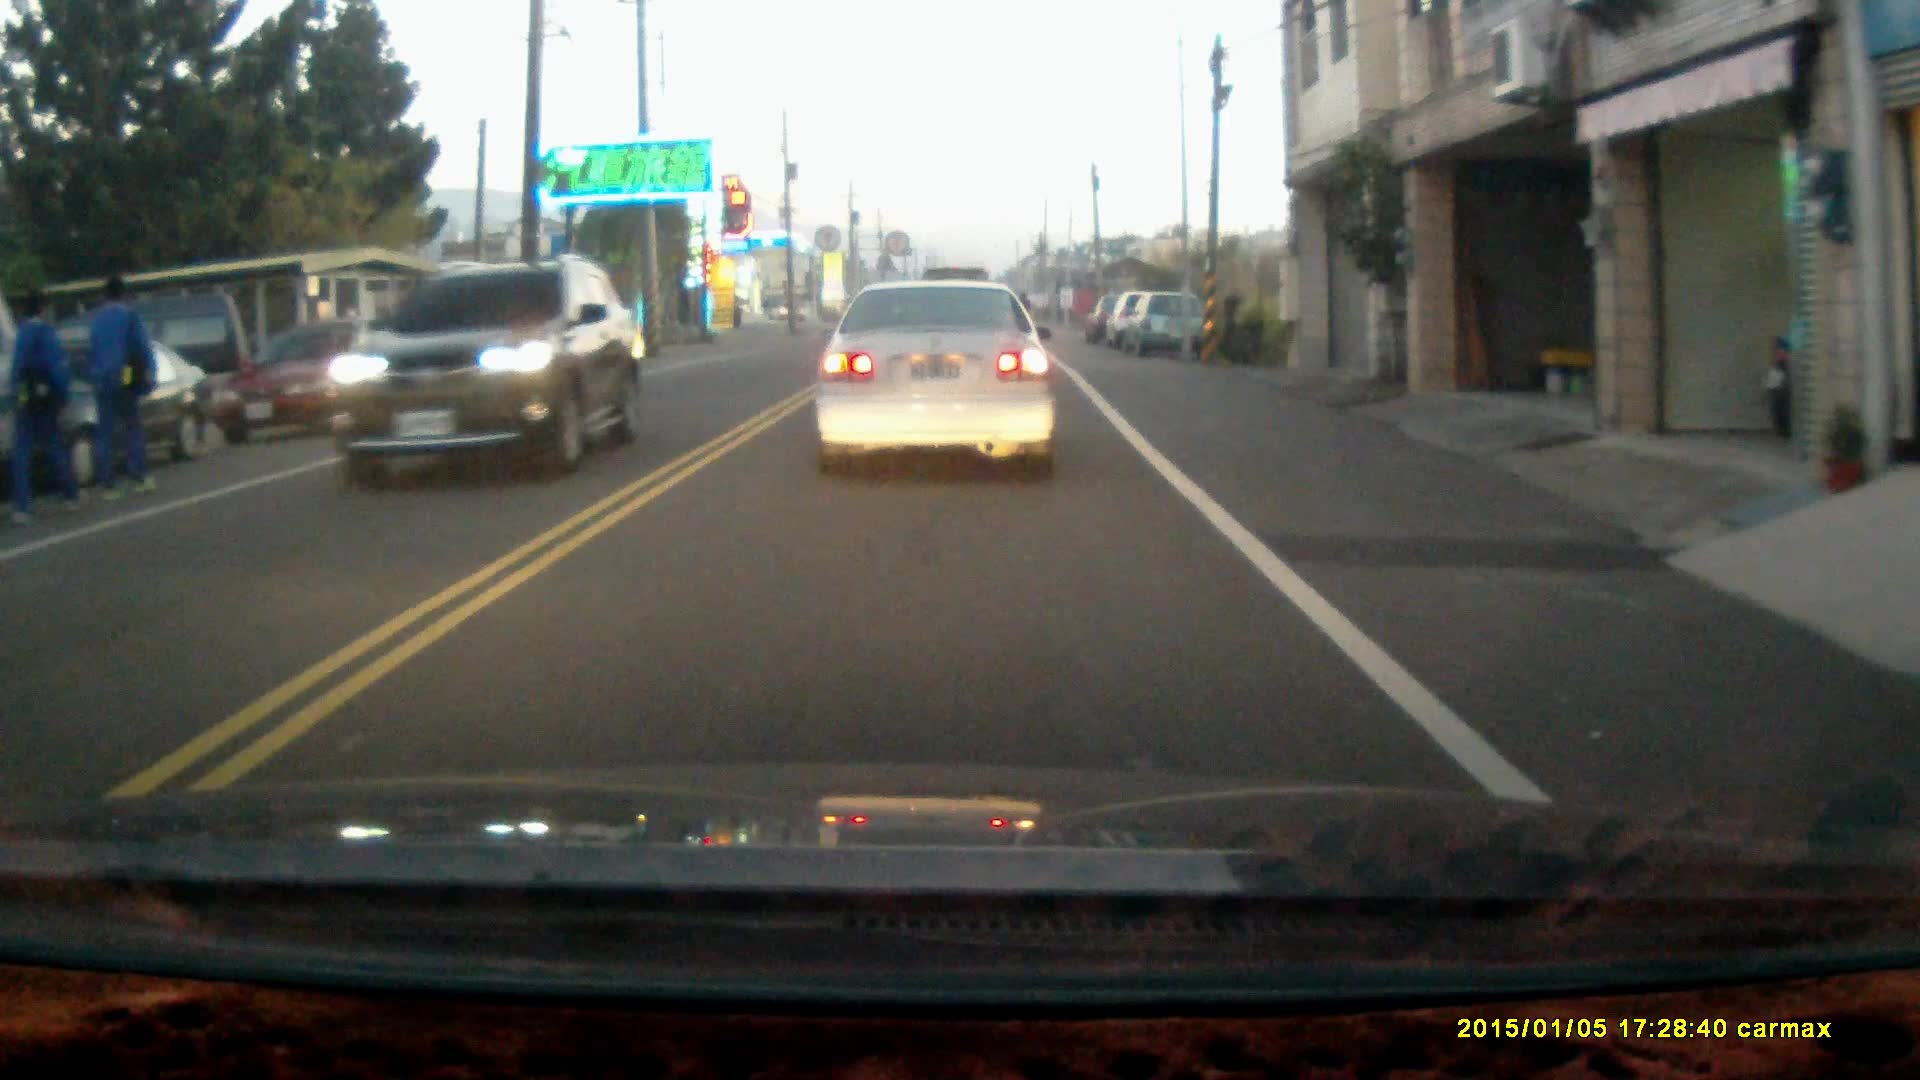pedestrian: (83, 273, 159, 502), (12, 284, 73, 520)
vehicle: (329, 260, 649, 481), (810, 280, 1063, 482), (2, 327, 225, 495), (227, 315, 414, 450), (1121, 294, 1210, 362), (685, 1061, 705, 1080)
